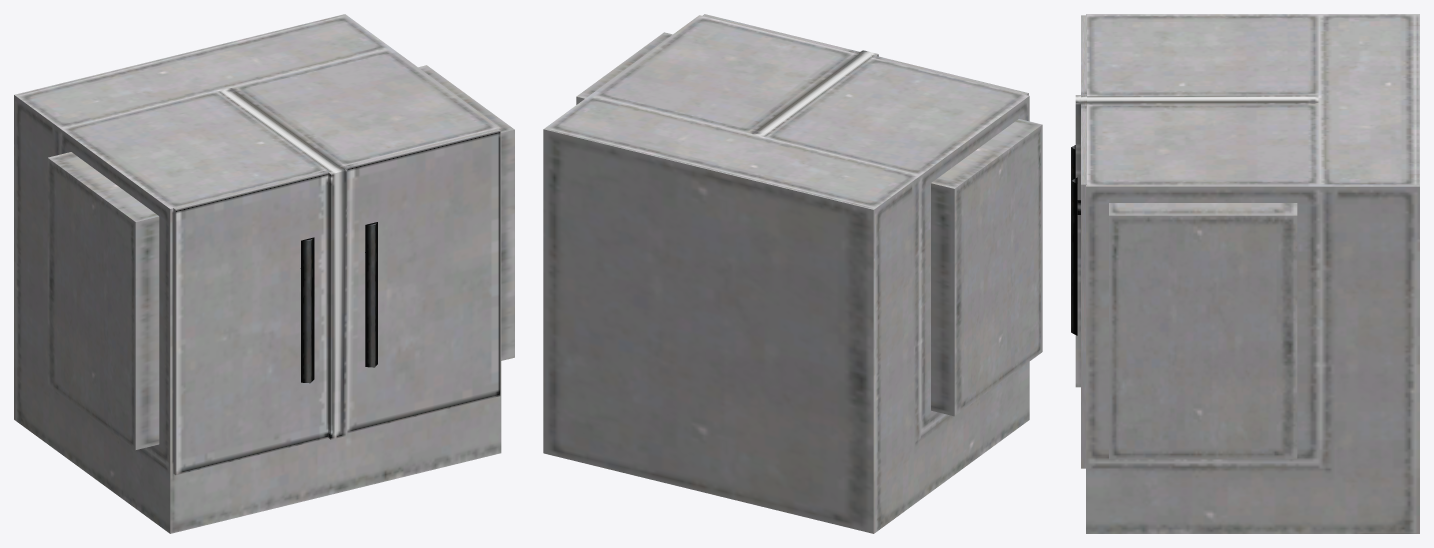
The model's file is frn_all_plan_chest_s01_l0.fbx.
3 views of the same model, side by side, from view 1: azimuth 30°, elevation 25°; view 2: azimuth 150°, elevation 25°; view 3: azimuth 270°, elevation 25° (orthographic). The views are drawn at different scales.
Visible parts, largest first — view 1: mesh_node; view 2: mesh_node; view 3: mesh_node.
Part boxes in pixels (x1,y1,x2,y2): mesh_node: (14, 14, 514, 533); mesh_node: (543, 14, 1042, 533); mesh_node: (1071, 14, 1419, 533).
Size of the model in its own units: 1.15 by 0.9382 by 0.8531.
